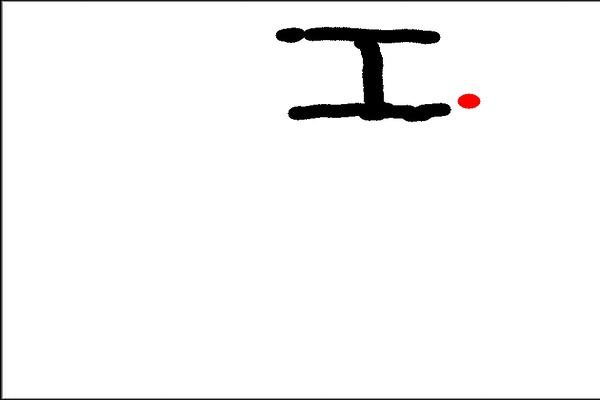i: (271, 15, 453, 143)
